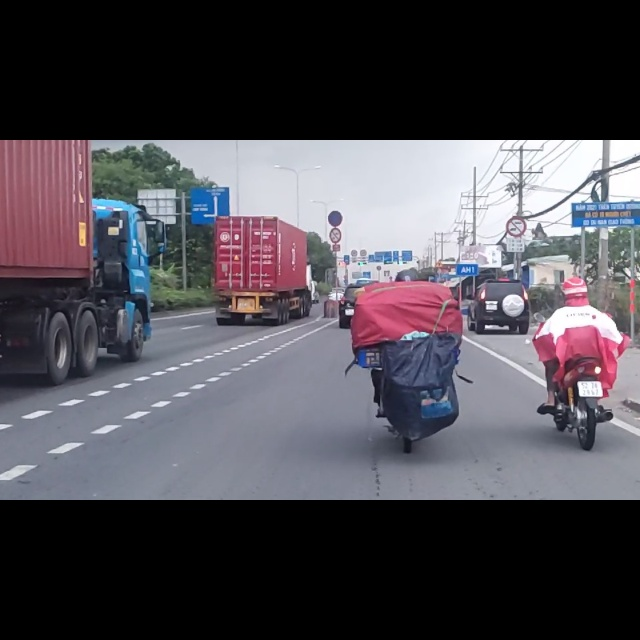bien_cam: (506, 133, 527, 175), (327, 124, 344, 153), (330, 156, 341, 184)
